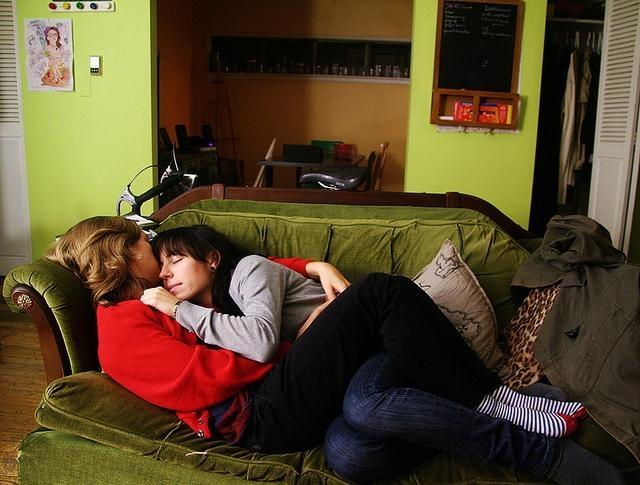bicycle: (118, 162, 369, 228)
